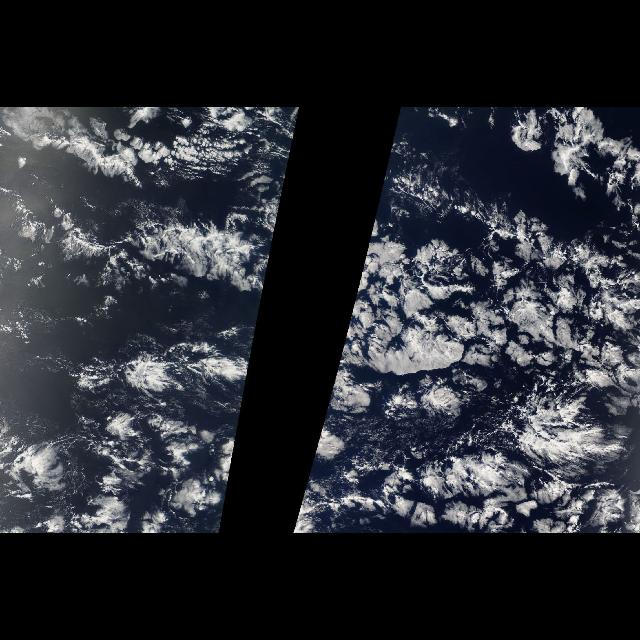Flower: (290, 109, 640, 533), (70, 109, 300, 533)
